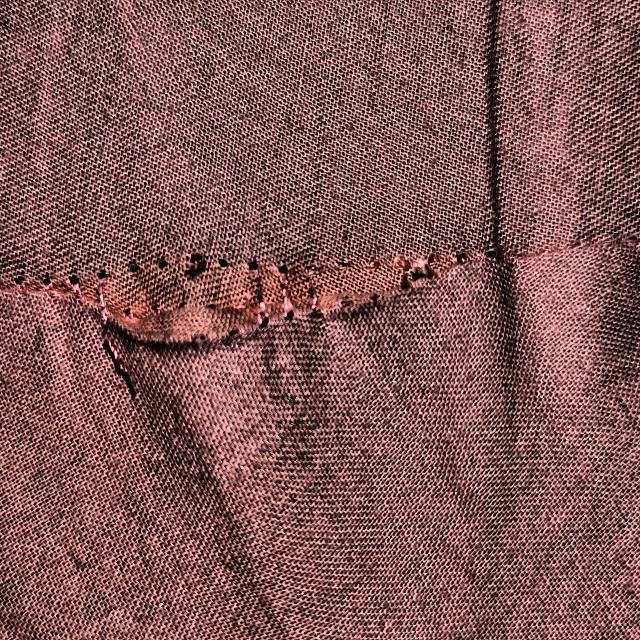gray stitch: (58, 233, 471, 402)
